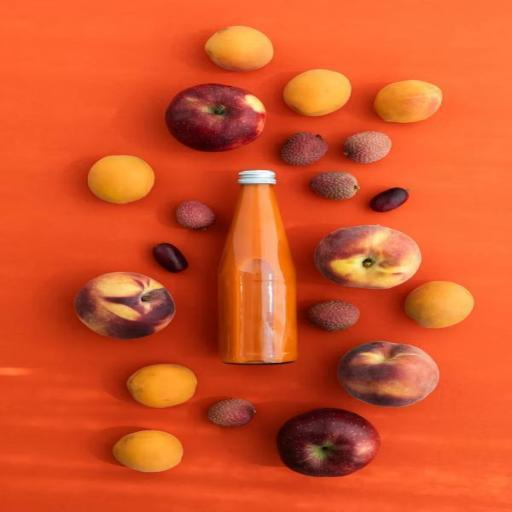bottle: (201, 164, 322, 371)
